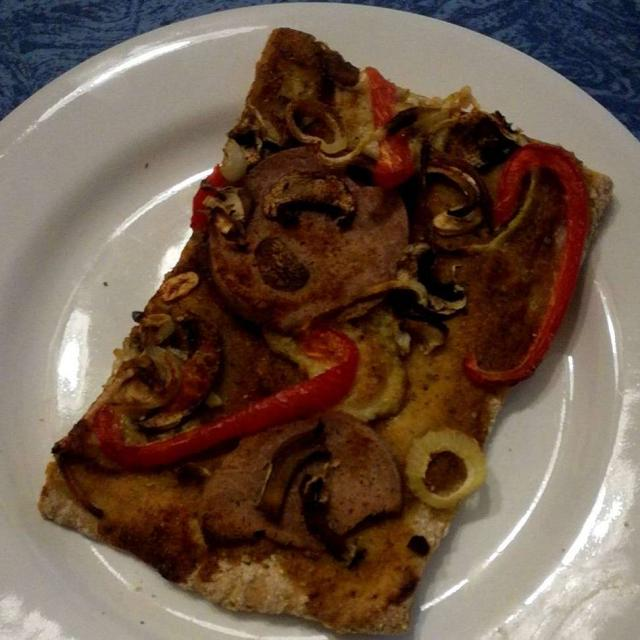pizza-with-vegetables-baked: (46, 46, 605, 609)
